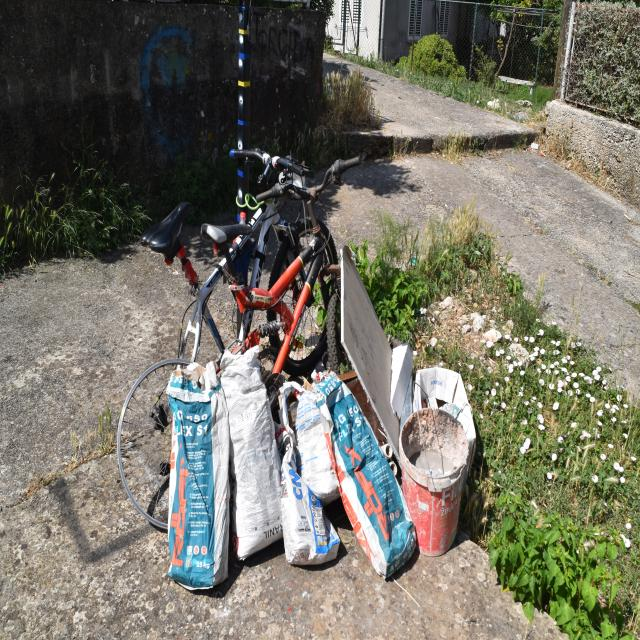entulho: (296, 367, 414, 576), (374, 358, 476, 575), (213, 348, 288, 555), (338, 248, 408, 467), (166, 363, 226, 591), (276, 419, 343, 570), (277, 378, 347, 507)
